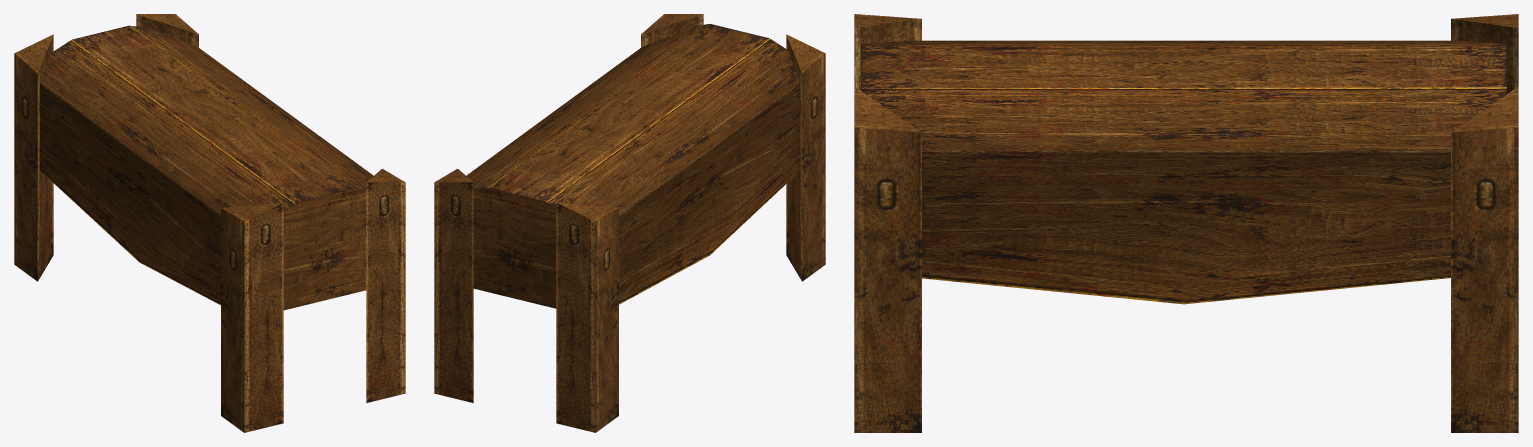
The model's file is mm9_deco_bench03.glb.
3 views of the same model, side by side, from view 1: azimuth 30°, elevation 25°; view 2: azimuth 150°, elevation 25°; view 3: azimuth 270°, elevation 25° (orthographic). The views are drawn at different scales.
Visible parts, largest first — view 1: Bench03; view 2: Bench03; view 3: Bench03.
Part boxes in pixels (x1,y1,x2,y2): Bench03: [14, 14, 405, 432]; Bench03: [434, 14, 825, 432]; Bench03: [854, 14, 1518, 432].
Size of the model in its own units: 0.5483 by 0.7169 by 1.35.
Materials: 1 (1 with a texture image).
